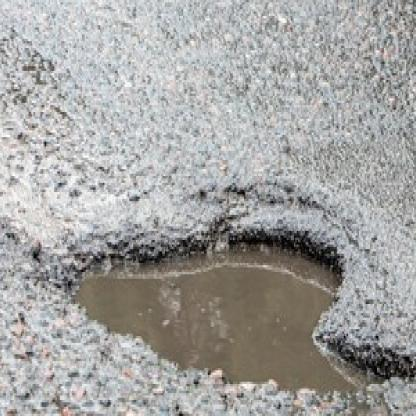pothole: (64, 219, 416, 400)
